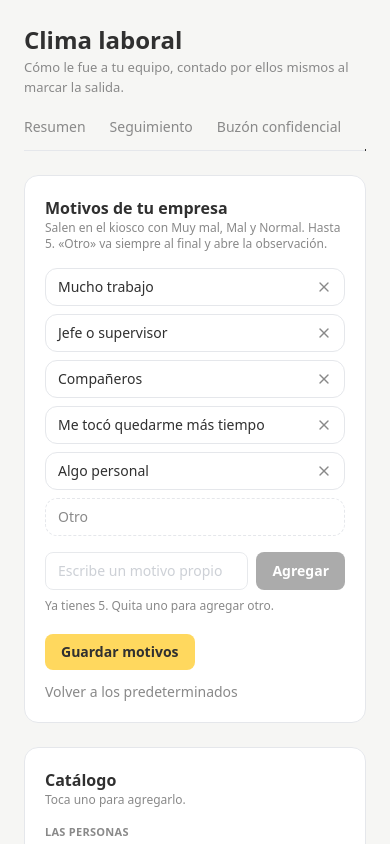
Test: motivos › con cinco no se puede agregar otro hasta quitar uno
This screenshot has width=390, height=844.
Click the button named "Quitar «Algo personal»". click: click(324, 471)
box: [316, 463, 332, 479]
(page scrolled)
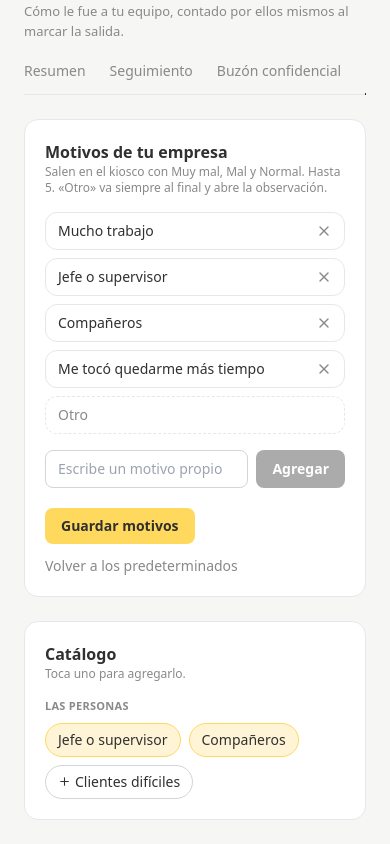
Expected: the button with aria-label "Agregar «Clientes difíciles»" is enabled, [45, 764, 193, 798]
